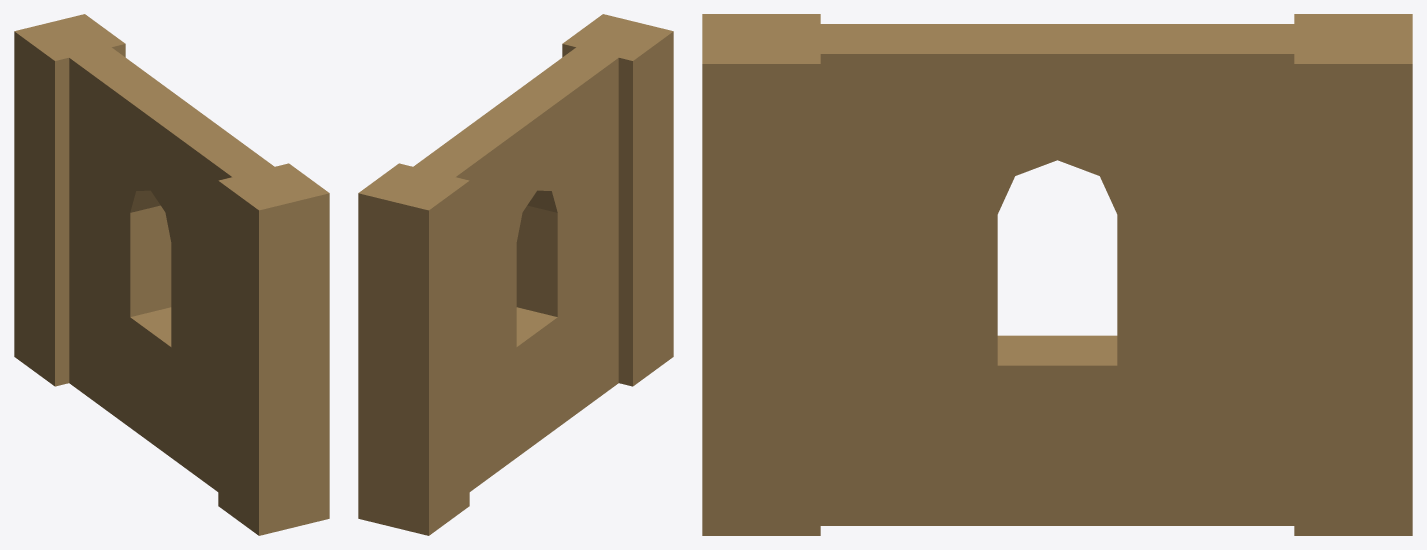
File: wood_window_round_01.glb
3 views of the same model, side by side, from view 1: azimuth 30°, elevation 25°; view 2: azimuth 150°, elevation 25°; view 3: azimuth 270°, elevation 25° (orthographic). The views are drawn at different scales.
Parts seen in each view (by area): view 1: Mesh1 Wood_Window_Round Model; view 2: Mesh1 Wood_Window_Round Model; view 3: Mesh1 Wood_Window_Round Model.
Boxes of the visible parts, bbox=[...] form: Mesh1 Wood_Window_Round Model: bbox=[14, 14, 329, 535]; Mesh1 Wood_Window_Round Model: bbox=[358, 14, 673, 535]; Mesh1 Wood_Window_Round Model: bbox=[702, 14, 1412, 535].
Size of the model in its own units: 0.5 by 2.2 by 3.
